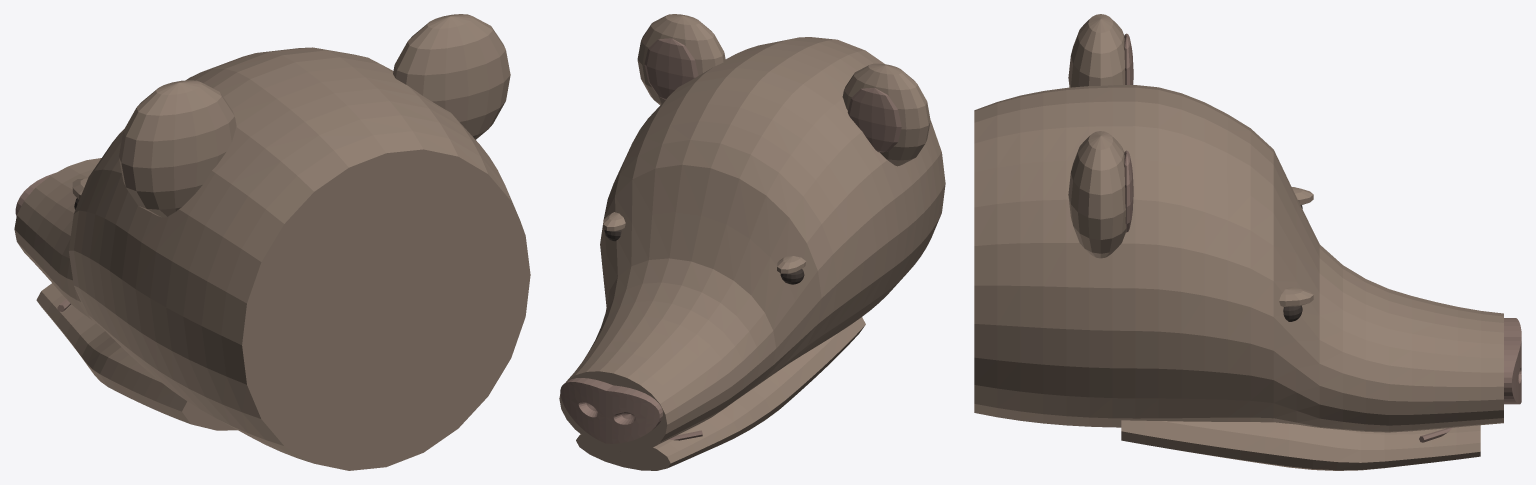
File: bear_head_01.glb
3 renders of one model, left to right at view 1: azimuth 30°, elevation 25°; view 2: azimuth 150°, elevation 25°; view 3: azimuth 270°, elevation 25°, orthographic. The views are drawn at different scales.
Parts seen in each view (by area): view 1: Cranium, EarL, EarR, Jaw; view 2: Cranium, Jaw, Nose, EarL, EarR, InnerEarL, InnerEarR, BrowL; view 3: Cranium, Jaw, EarR, EarL, Nose, InnerEarR.
Part boxes in pixels (box(x1,y1,x2,y2)): Cranium: box(14, 47, 530, 470); EarL: box(119, 80, 236, 217); EarR: box(393, 14, 510, 139); Jaw: box(36, 283, 237, 430); Cranium: box(559, 37, 945, 452); Jaw: box(576, 317, 865, 470); Nose: box(560, 378, 662, 443); EarL: box(842, 63, 930, 166); EarR: box(637, 14, 725, 105); InnerEarL: box(847, 87, 901, 152); InnerEarR: box(644, 38, 698, 99); BrowL: box(777, 256, 805, 273); Cranium: box(974, 85, 1503, 432); Jaw: box(1121, 420, 1480, 470); EarR: box(1068, 131, 1126, 258); EarL: box(1068, 14, 1125, 87); Nose: box(1504, 318, 1521, 404); InnerEarR: box(1124, 150, 1133, 232).
Size of the model in its own units: 0.67 by 0.7014 by 0.93.
